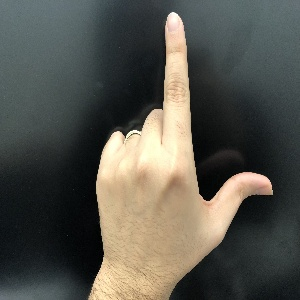hand: (95, 12, 273, 279)
